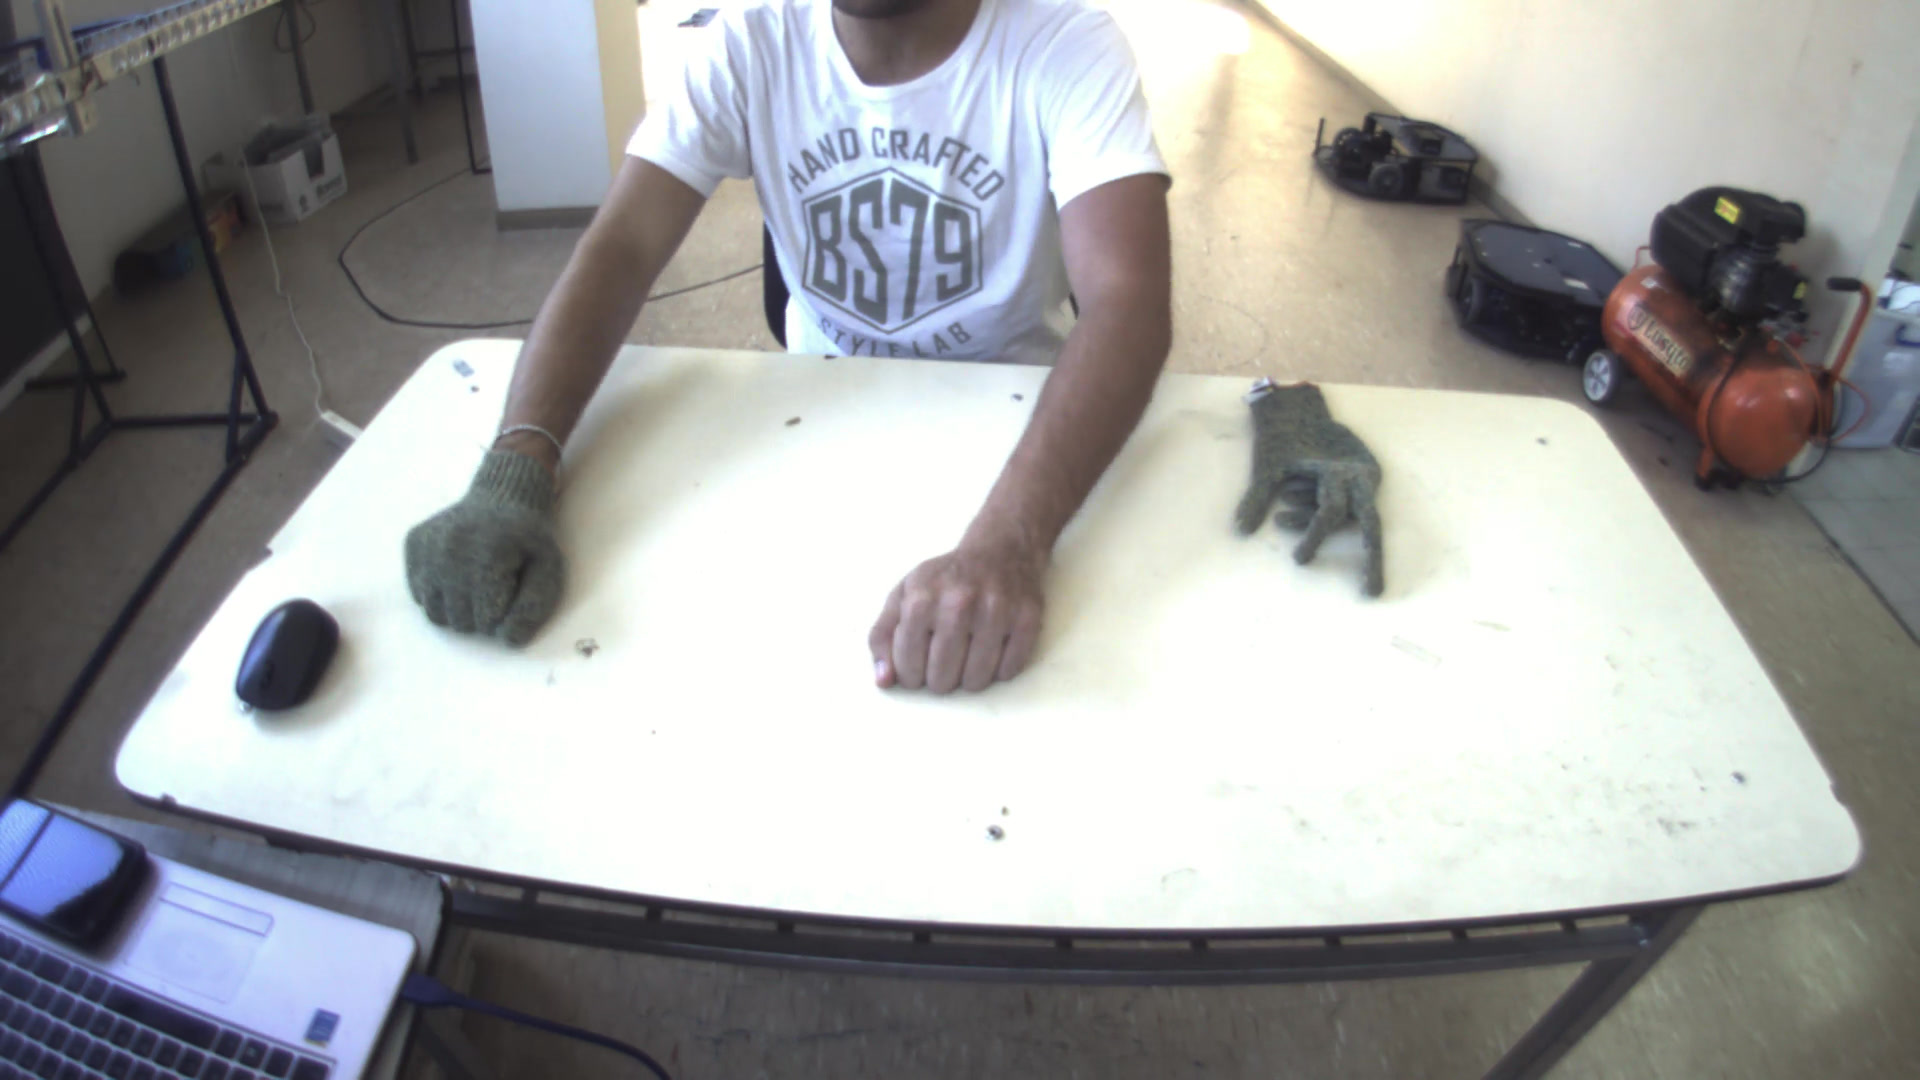hand: (388, 425, 579, 647), (860, 506, 1067, 695)
